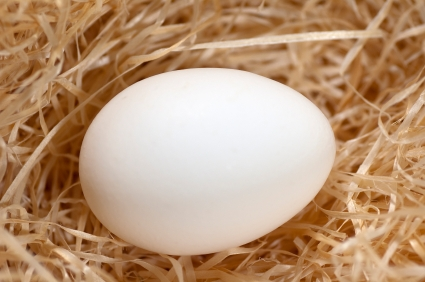Egg: (69, 43, 348, 266)
